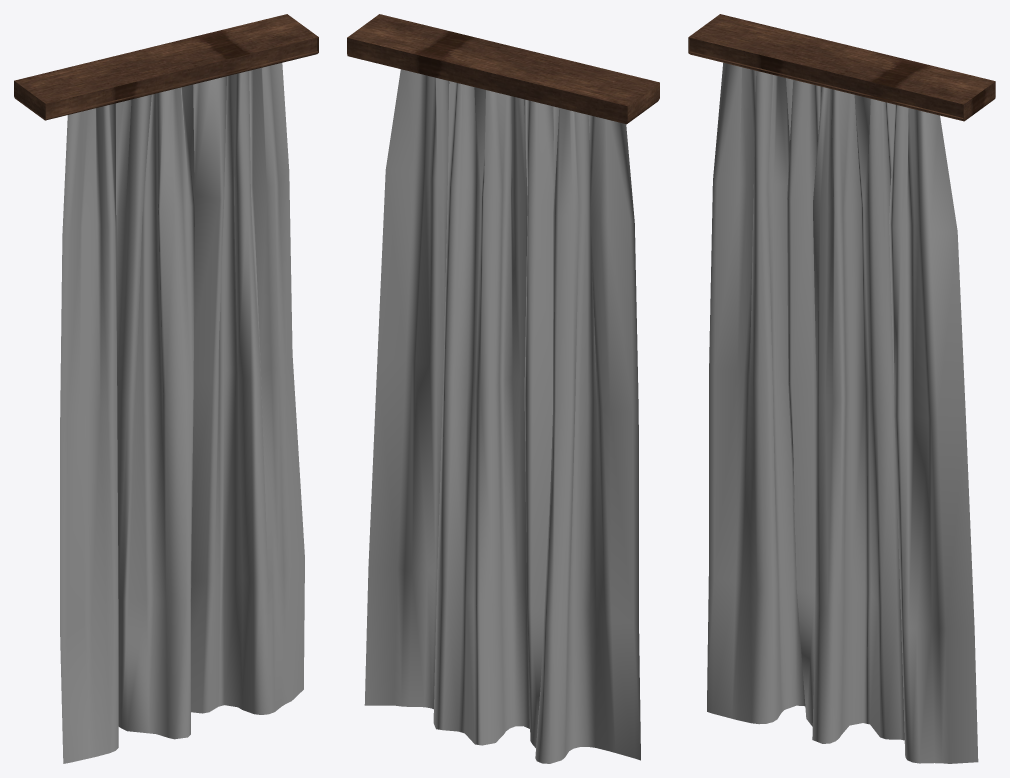
The model's file is Curtain_Mesh.fbx.
The picture shows the model from 3 angles, left to right: view 1: azimuth 30°, elevation 25°; view 2: azimuth 150°, elevation 25°; view 3: azimuth 330°, elevation 25°; orthographic projection. The views are drawn at different scales.
Visible parts, largest first — view 1: curtain; view 2: curtain; view 3: curtain.
Boxes of the visible parts, x1,y1,x2,y2 form: curtain: [14, 14, 318, 763]; curtain: [347, 14, 659, 763]; curtain: [688, 14, 995, 763].
Bounding box in the file's own units: 131 × 304 × 30.
2 materials, 1 textured.
